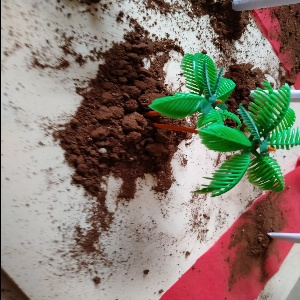plant: (141, 45, 300, 192)
